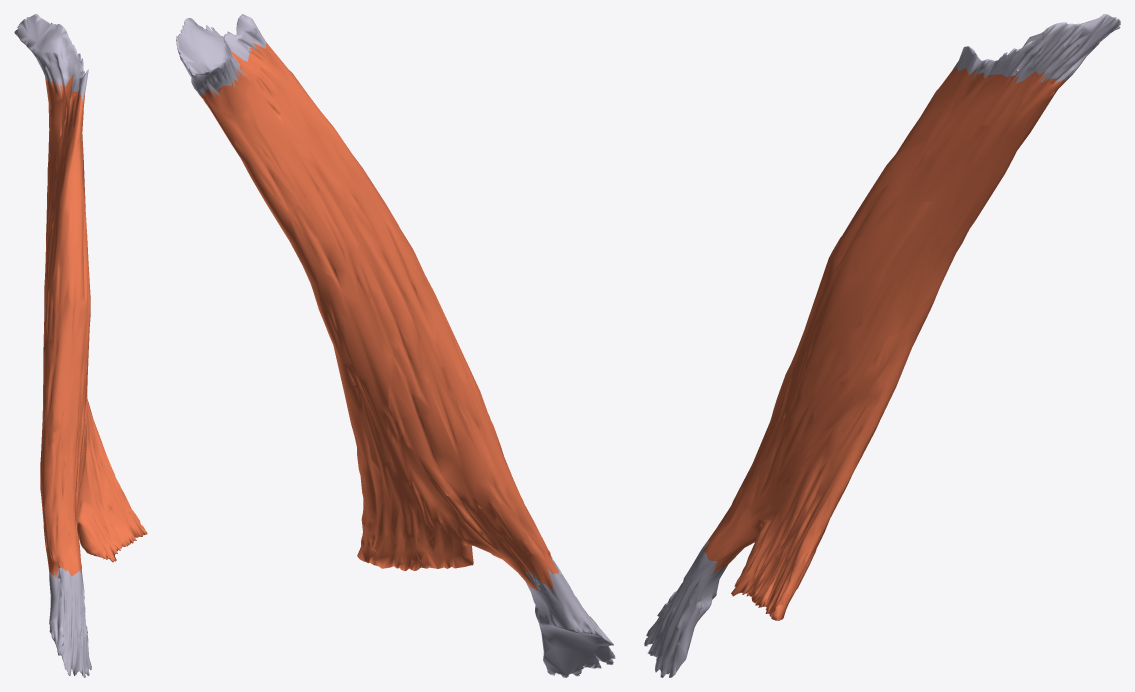
The model's file is Sternocleidomastoid_left.glb.
The picture shows the model from 3 angles, left to right: view 1: azimuth 30°, elevation 25°; view 2: azimuth 150°, elevation 25°; view 3: azimuth 270°, elevation 25°; orthographic projection. The views are drawn at different scales.
Visible parts, largest first — view 1: Sternocleidomastoid_muscle.l_Generated_Mesh_From_X3D.198; view 2: Sternocleidomastoid_muscle.l_Generated_Mesh_From_X3D.198; view 3: Sternocleidomastoid_muscle.l_Generated_Mesh_From_X3D.198.
Boxes of the visible parts, x1,y1,x2,y2 form: Sternocleidomastoid_muscle.l_Generated_Mesh_From_X3D.198: (14, 14, 147, 677); Sternocleidomastoid_muscle.l_Generated_Mesh_From_X3D.198: (176, 14, 615, 677); Sternocleidomastoid_muscle.l_Generated_Mesh_From_X3D.198: (644, 14, 1120, 677).
Bounding box in the file's own units: 0.0578 × 0.1939 × 0.1137.
